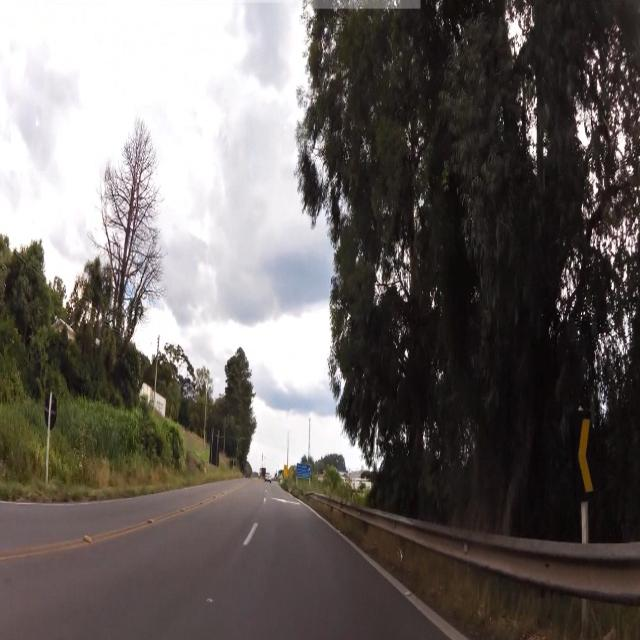Del: (570, 412, 604, 505)
